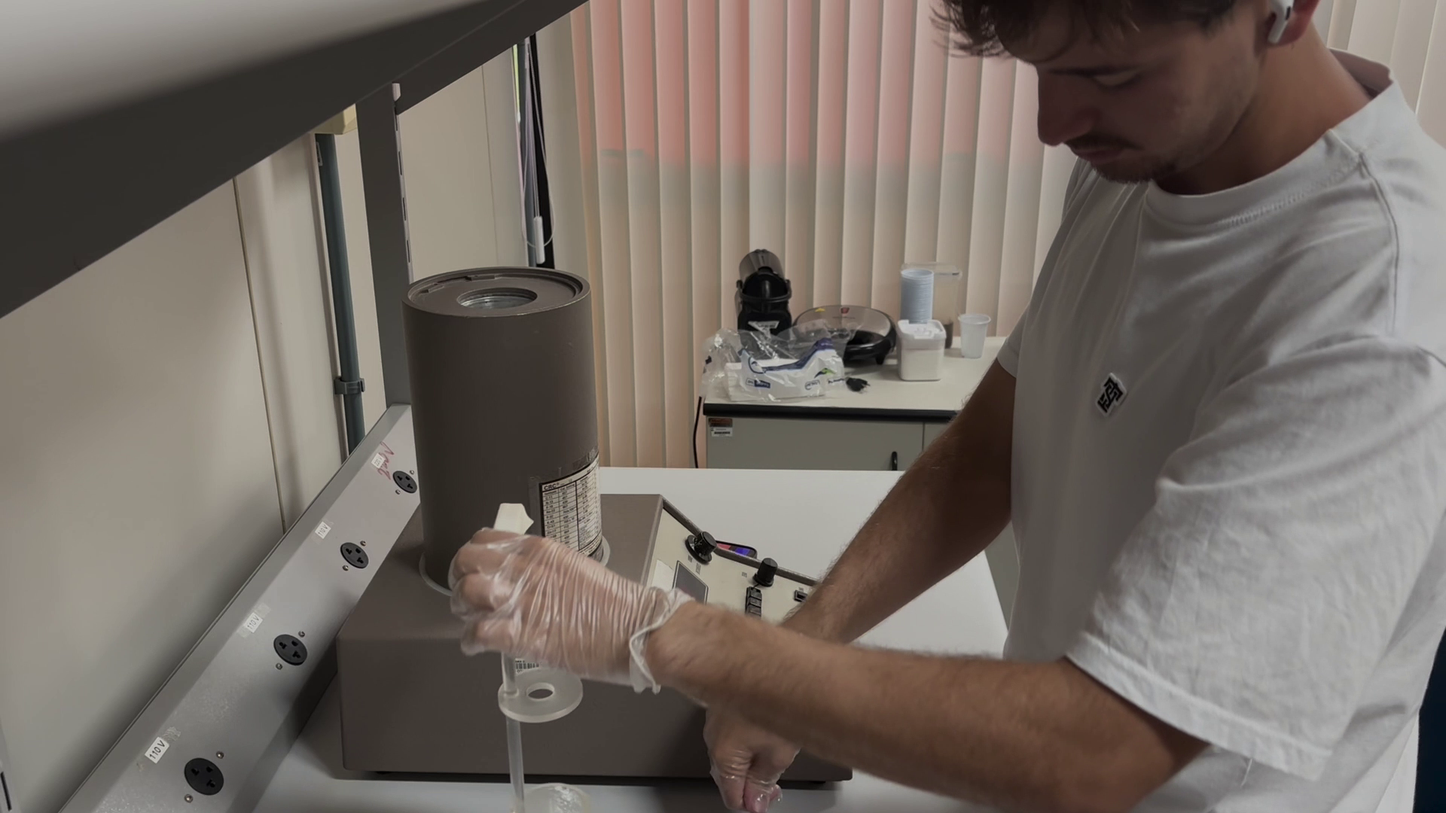Ativimetro: (399, 247, 610, 586)
Cesta: (490, 499, 589, 813)
Com_Luva: (445, 524, 694, 690), (700, 699, 798, 813)
